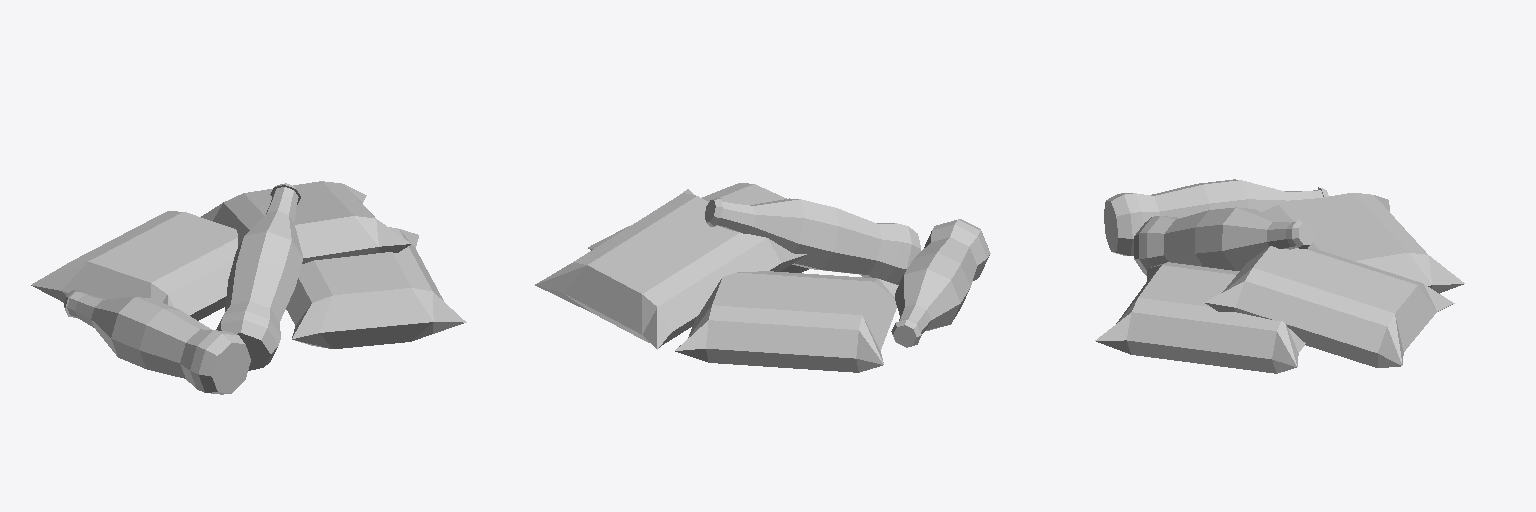
The model's file is drop.obj.
The picture shows the model from 3 angles: view 1: azimuth 30°, elevation 25°; view 2: azimuth 150°, elevation 25°; view 3: azimuth 270°, elevation 25°; orthographic projection.
Parts seen in each view (by area): view 1: Cube.001, Cube.003, Cube.004, Cube, Cube.002; view 2: Cube.002, Cube.003, Cube, Cube.004, Cube.001; view 3: Cube.002, Cube.001, Cube.003, Cube, Cube.004.
Boxes of the visible parts, box(x1,y1,x2,y2) form: Cube.001: box(286, 227, 466, 348); Cube.003: box(31, 211, 237, 320); Cube.004: box(64, 289, 250, 394); Cube: box(216, 183, 302, 370); Cube.002: box(201, 181, 410, 263); Cube.002: box(535, 189, 806, 349); Cube.003: box(675, 271, 898, 372); Cube: box(705, 198, 920, 284); Cube.004: box(891, 219, 990, 347); Cube.001: box(588, 183, 808, 272); Cube.002: box(1204, 246, 1454, 367); Cube.001: box(1095, 262, 1305, 373); Cube.003: box(1262, 193, 1464, 293); Cube: box(1134, 207, 1314, 275); Cube.004: box(1104, 179, 1328, 255).
Bounding box in the file's own units: 4.59 × 1.4 × 4.28.